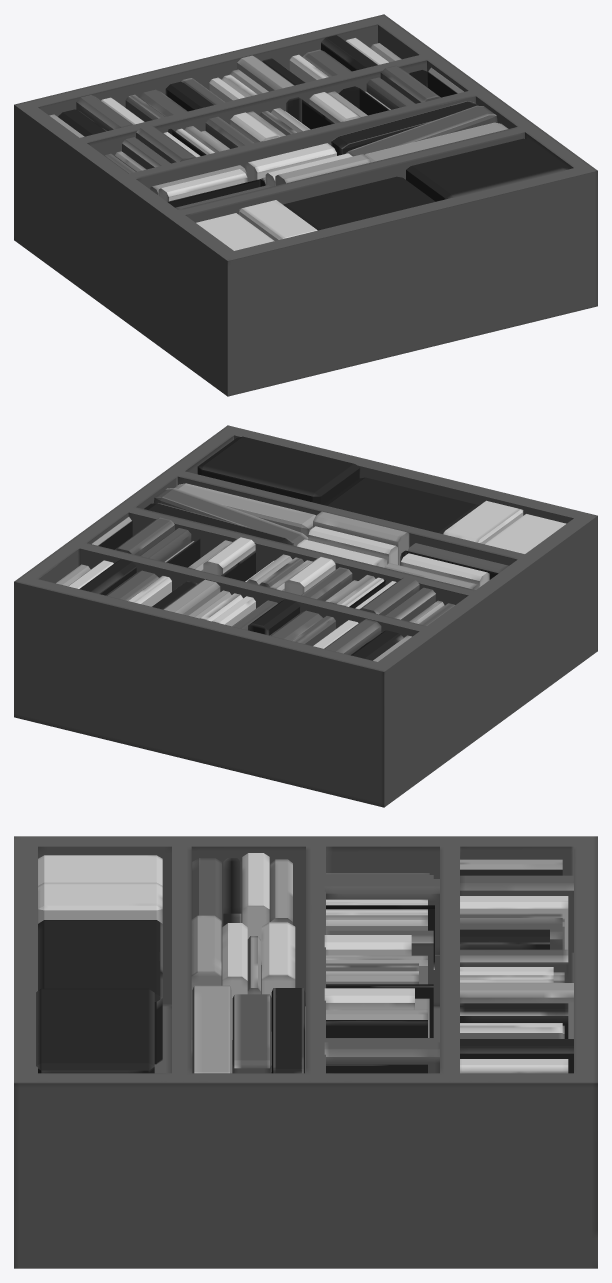
Rendered from Books_A.fbx.
3 views of the same model, one above another, from view 1: azimuth 30°, elevation 25°; view 2: azimuth 150°, elevation 25°; view 3: azimuth 270°, elevation 25° (orthographic). The views are drawn at different scales.
Parts seen in each view (by area): view 1: Books_A; view 2: Books_A; view 3: Books_A.
Boxes of the visible parts, <box> form: Books_A: <box>14,14,597,396</box>; Books_A: <box>14,425,597,807</box>; Books_A: <box>14,836,597,1268</box>.
Bounding box in the file's own units: 200 × 71.65 × 200.
